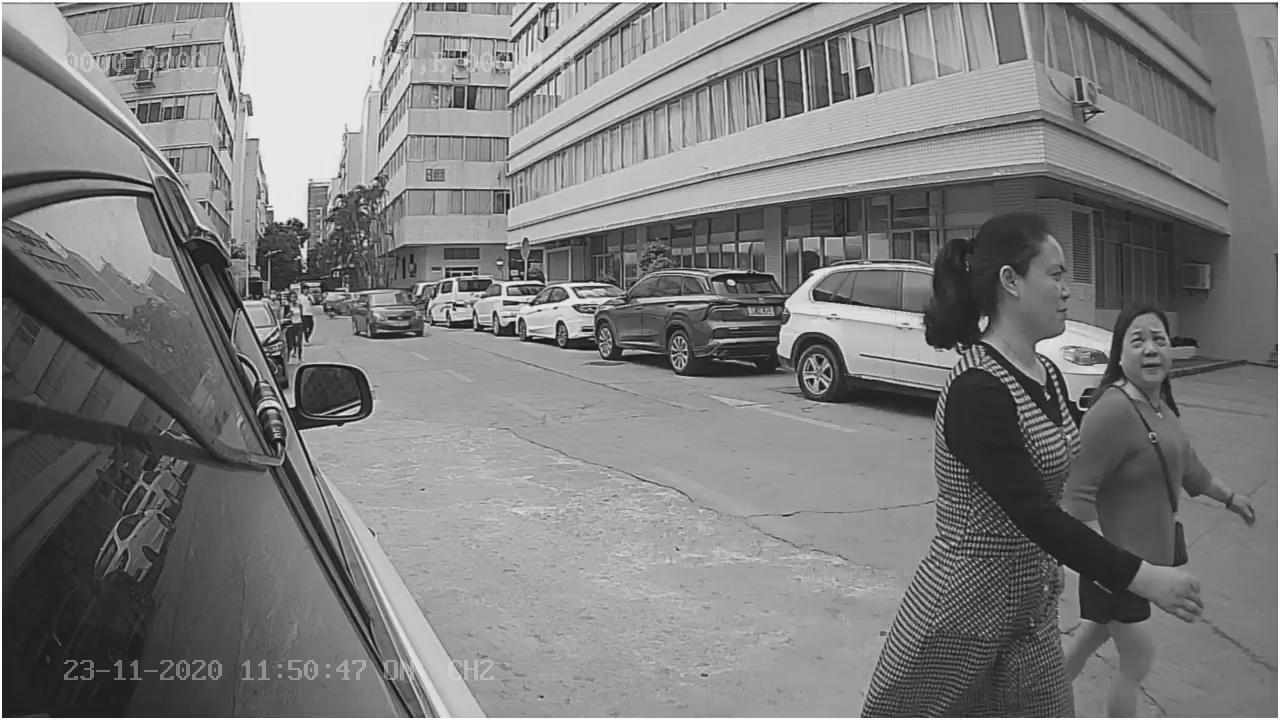person: (912, 204, 1080, 520)
